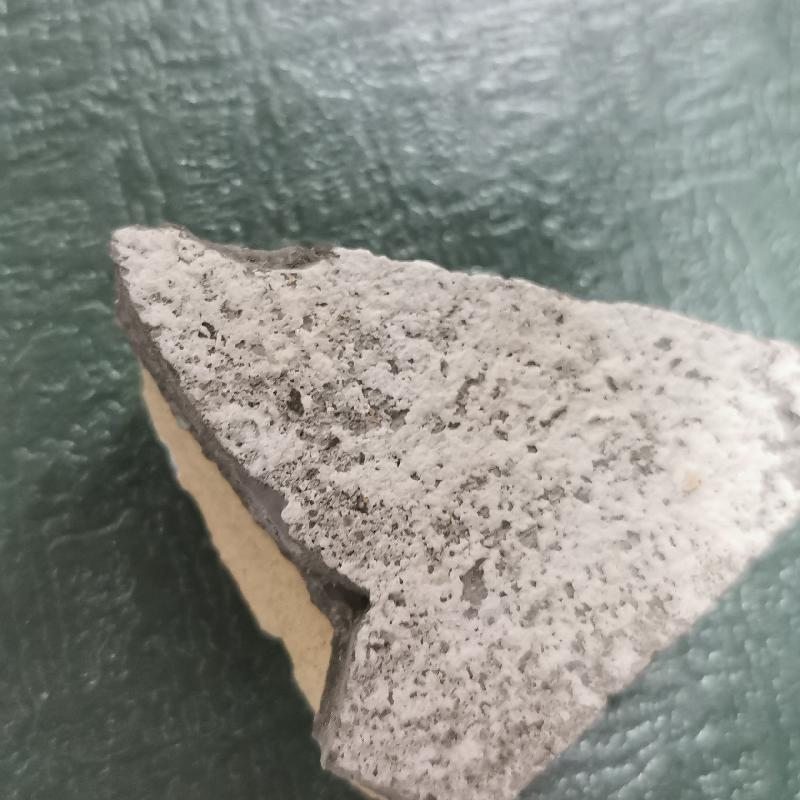tile: (98, 209, 800, 799)
